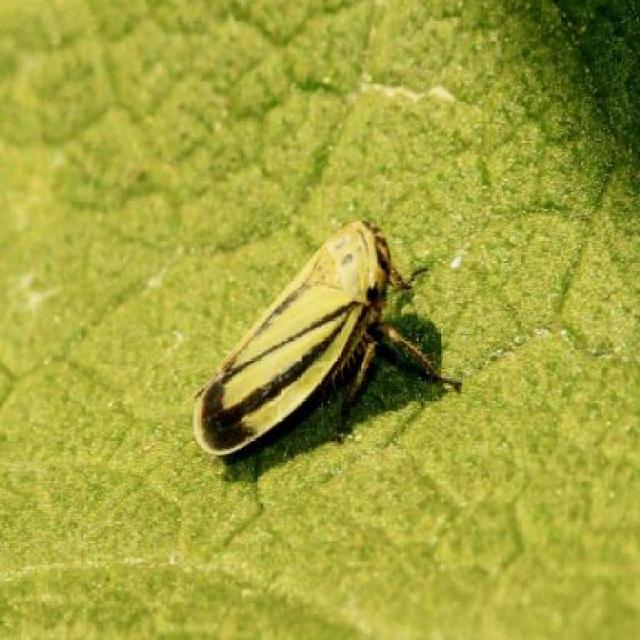green-leafhopper: (198, 218, 420, 454)
